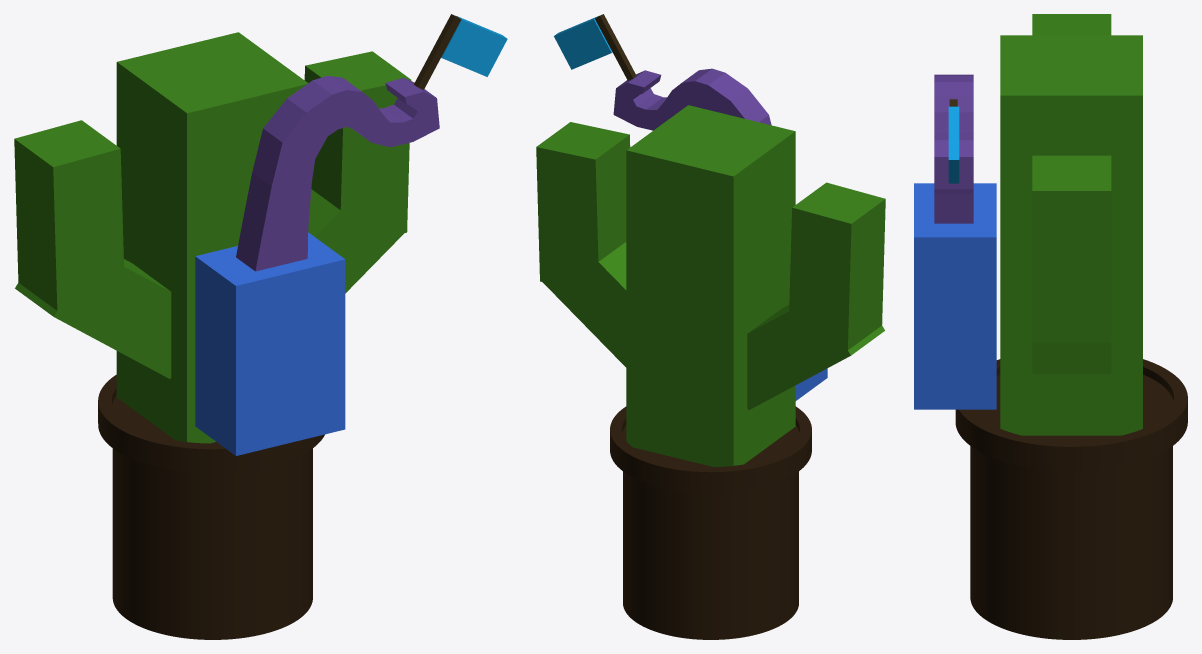
The model's file is Character_flag_blue.fbx.
3 renders of one model, left to right at view 1: azimuth 30°, elevation 25°; view 2: azimuth 150°, elevation 25°; view 3: azimuth 270°, elevation 25°, orthographic. The views are drawn at different scales.
Parts seen in each view (by area): view 1: Cactus_Flag_blue, Mochila_Cactus_Flag_blue, Tentaculo_Cactus_Flag_blue, Flag_blue, Stick_wood_Flag_blue; view 2: Cactus_Flag_blue, Tentaculo_Cactus_Flag_blue, Flag_blue, Stick_wood_Flag_blue; view 3: Cactus_Flag_blue, Mochila_Cactus_Flag_blue, Tentaculo_Cactus_Flag_blue, Flag_blue.
Boxes of the visible parts, bbox=[...] form: Cactus_Flag_blue: bbox=[14, 32, 411, 639]; Mochila_Cactus_Flag_blue: bbox=[195, 232, 345, 455]; Tentaculo_Cactus_Flag_blue: bbox=[236, 75, 439, 271]; Flag_blue: bbox=[441, 16, 507, 76]; Stick_wood_Flag_blue: bbox=[414, 14, 461, 89]; Cactus_Flag_blue: bbox=[536, 105, 885, 639]; Tentaculo_Cactus_Flag_blue: bbox=[613, 68, 771, 130]; Flag_blue: bbox=[554, 16, 612, 69]; Stick_wood_Flag_blue: bbox=[595, 14, 636, 80]; Cactus_Flag_blue: bbox=[955, 14, 1187, 639]; Mochila_Cactus_Flag_blue: bbox=[914, 183, 996, 409]; Tentaculo_Cactus_Flag_blue: bbox=[934, 74, 973, 223]; Flag_blue: bbox=[948, 106, 959, 183].
Bounding box in the file's own units: 334 × 448 × 189.
